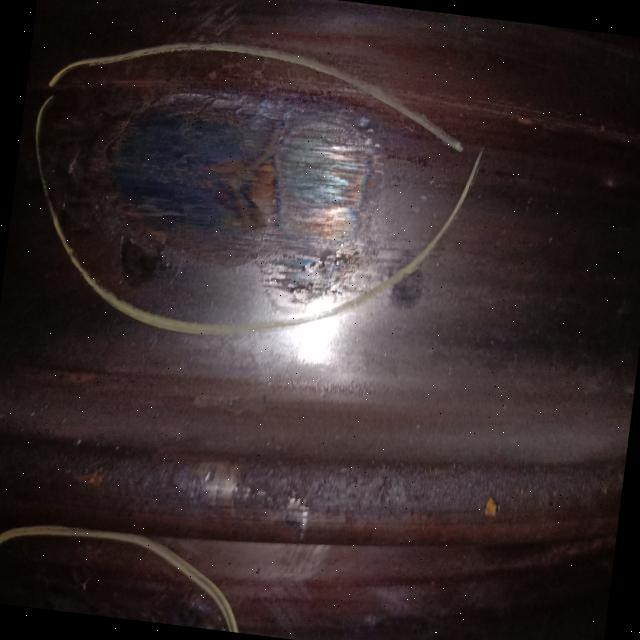flat: (81, 78, 384, 296)
